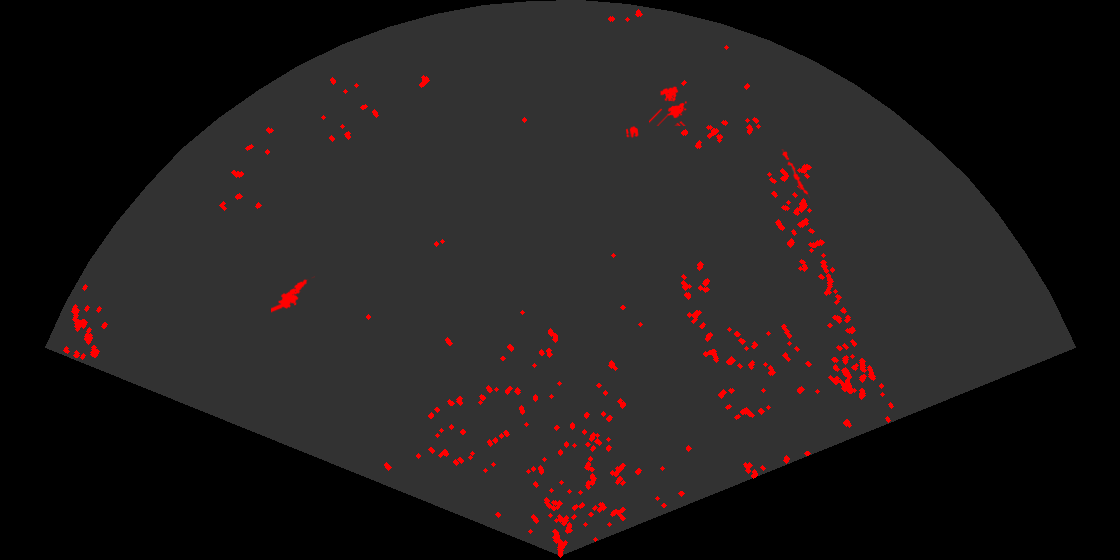ball: (624, 125, 639, 140)
cage: (649, 85, 688, 126)
chain: (780, 149, 810, 200)
frogman: (271, 276, 315, 314)
